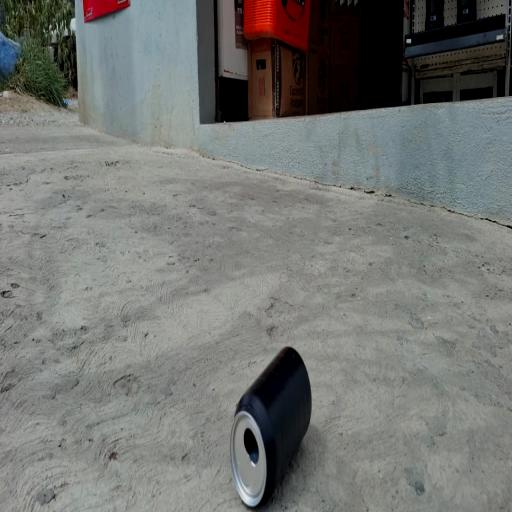LATA: (215, 323, 320, 512)
